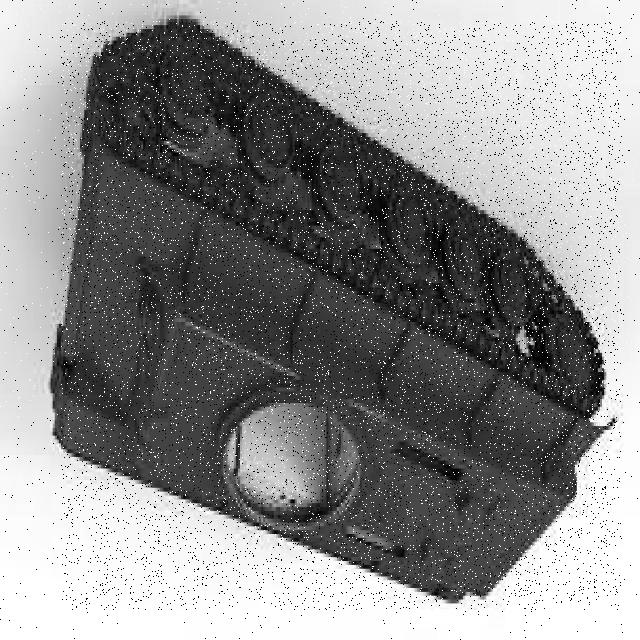MIL_MBT: (61, 21, 621, 610)
